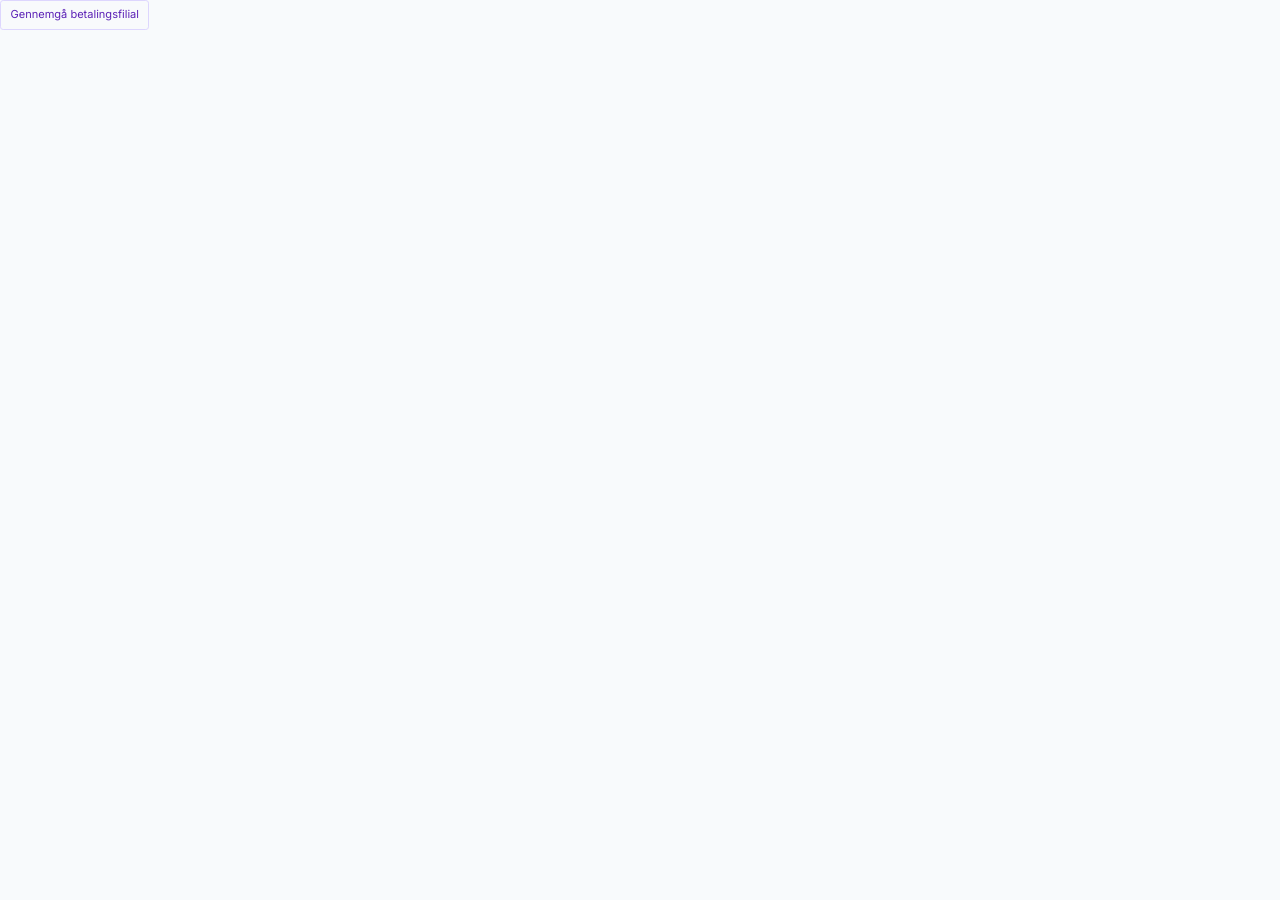
Test case: Backend approval lifecycle UI › blocks saving until the database is explicitly enabled
The image size is (1280, 900).
Click the button "Gennemgå betalingsfilial" at (75, 15), box [0,0,149,30]
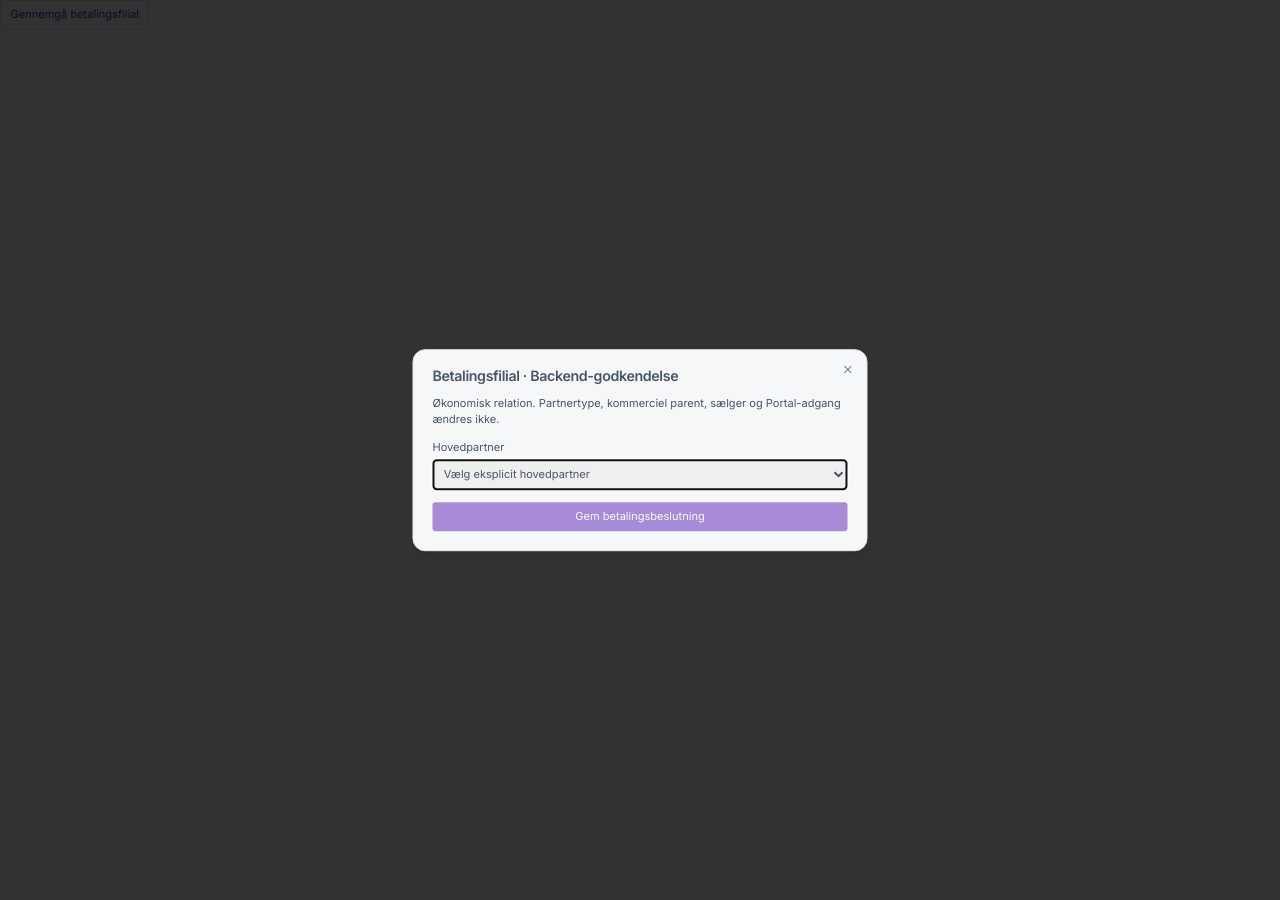
Select "Integra Group · #10451" in the dropdown labelled "Hovedpartner" at (640, 474), box [432,459,848,490]
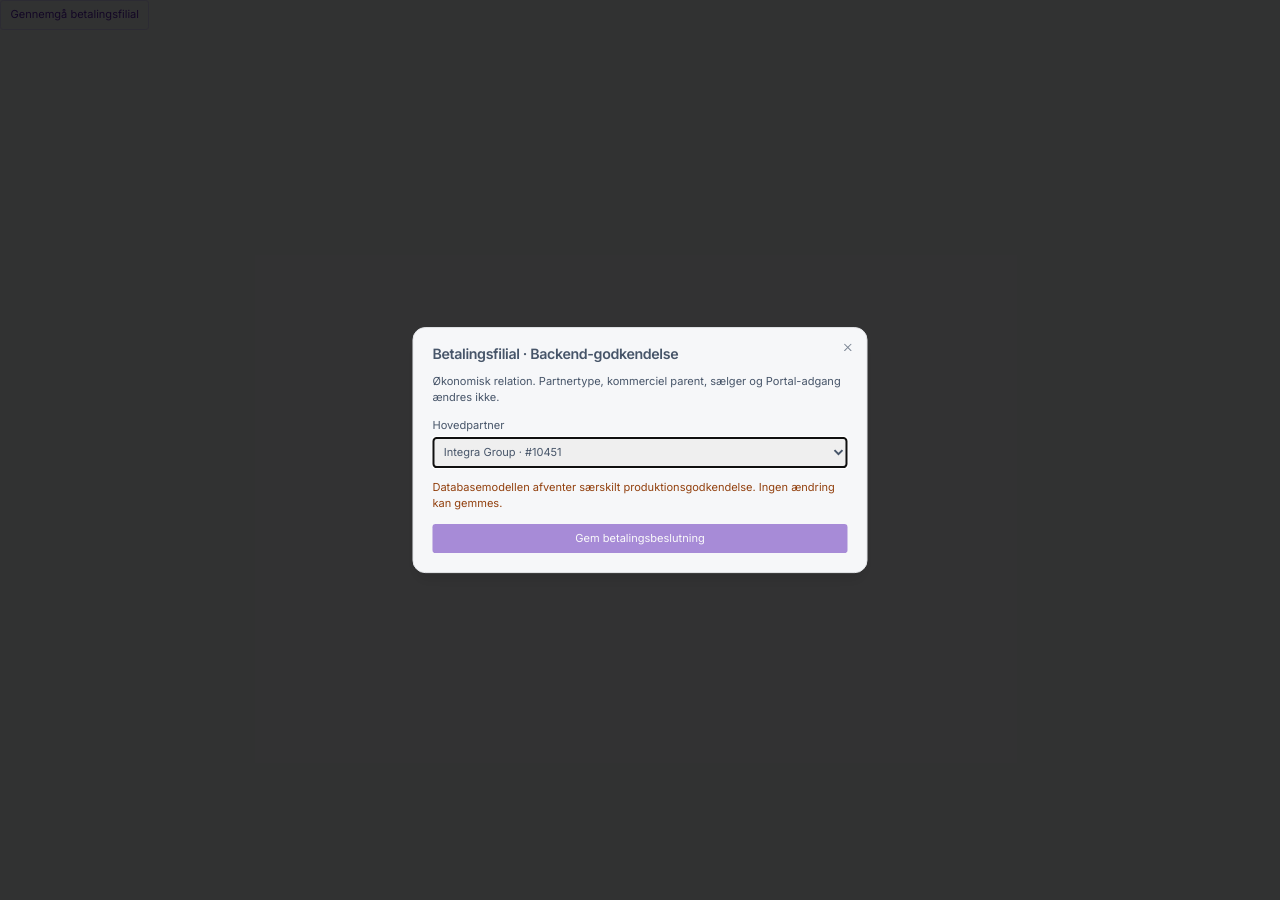
Expected: the button "Gem betalingsbeslutning" is disabled, [432,524,848,553]
Expected: the message shows "produktionsgodkendelse", [432,480,835,510]
